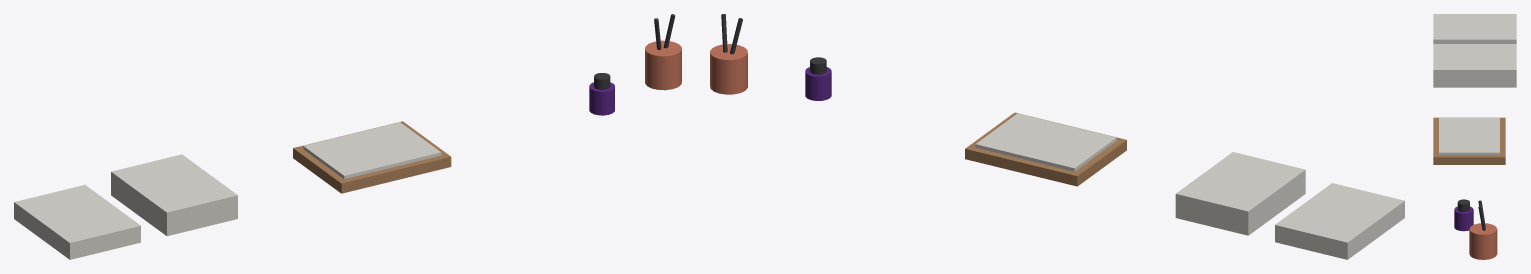
File: Papeleria.fbx
The picture shows the model from 3 angles, left to right: view 1: azimuth 30°, elevation 25°; view 2: azimuth 150°, elevation 25°; view 3: azimuth 270°, elevation 25°; orthographic projection. The views are drawn at different scales.
Parts seen in each view (by area): view 1: Papeleria; view 2: Papeleria; view 3: Papeleria.
Part boxes in pixels (x1=…): Papeleria: x1=14, y1=14, x2=681, y2=259; Papeleria: x1=710, y1=14, x2=1404, y2=259; Papeleria: x1=1433, y1=14, x2=1516, y2=259.
Bounding box in the file's own units: 1.99 × 0.1995 × 0.3.
